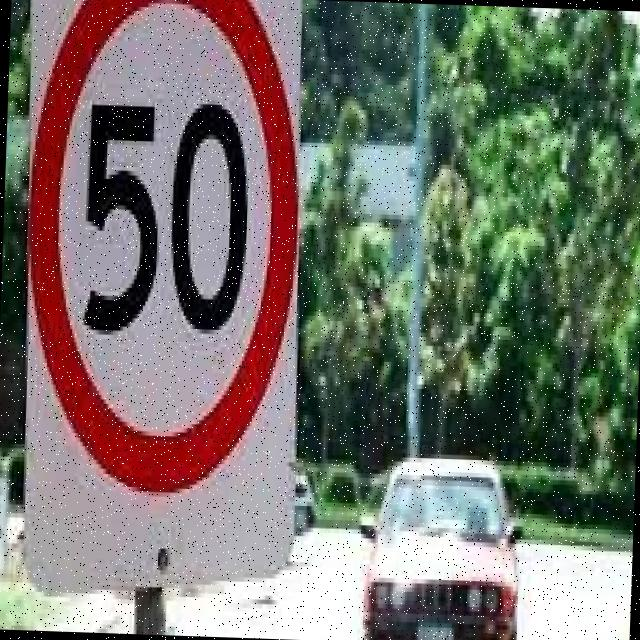speed_limit_50: (8, 0, 307, 514)
